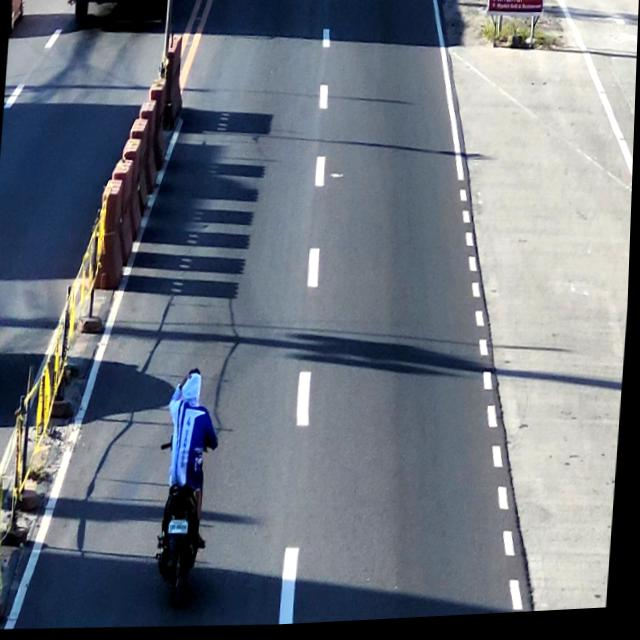License-Plate: (170, 521, 194, 540)
Motorcycle: (160, 367, 218, 610)
